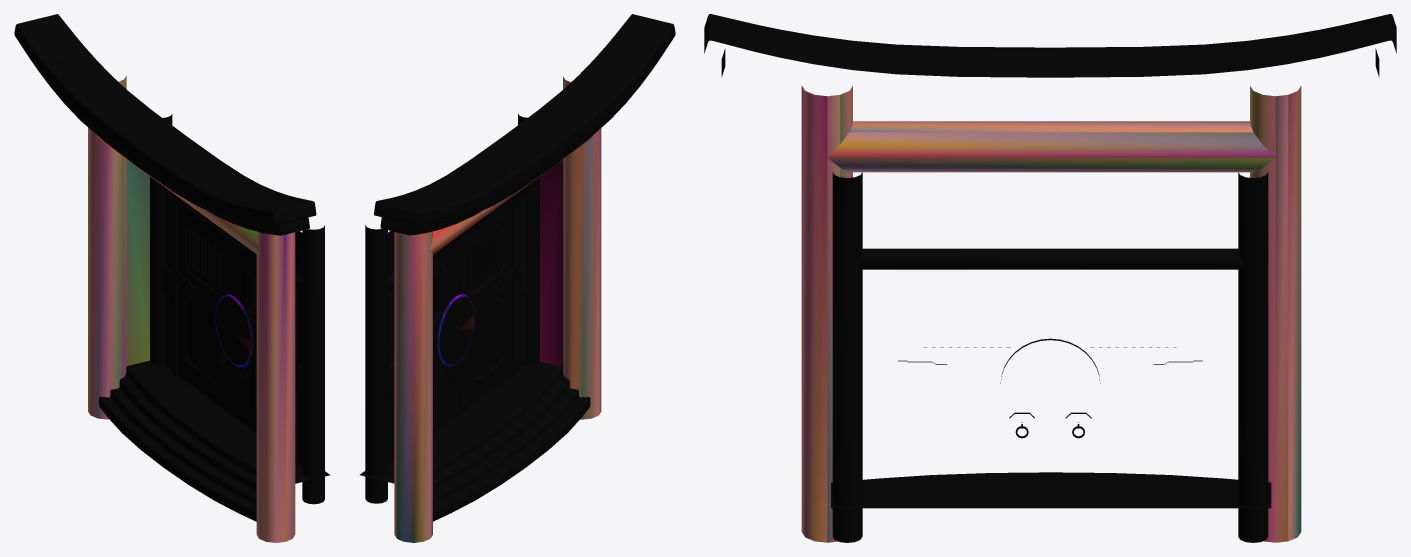
File: CHN_CastleBase_Room_Door.gltf
3 views of the same model, side by side, from view 1: azimuth 30°, elevation 25°; view 2: azimuth 150°, elevation 25°; view 3: azimuth 270°, elevation 25° (orthographic). The views are drawn at different scales.
Visible parts, largest first — view 1: CHN_CastleBase_Room_Door; view 2: CHN_CastleBase_Room_Door; view 3: CHN_CastleBase_Room_Door.
Boxes of the visible parts, x1=… form: CHN_CastleBase_Room_Door: x1=14, y1=14, x2=330, y2=542; CHN_CastleBase_Room_Door: x1=360, y1=14, x2=675, y2=542; CHN_CastleBase_Room_Door: x1=704, y1=14, x2=1396, y2=542.
Size of the model in its own units: 4.7 by 14.95 by 19.25.
